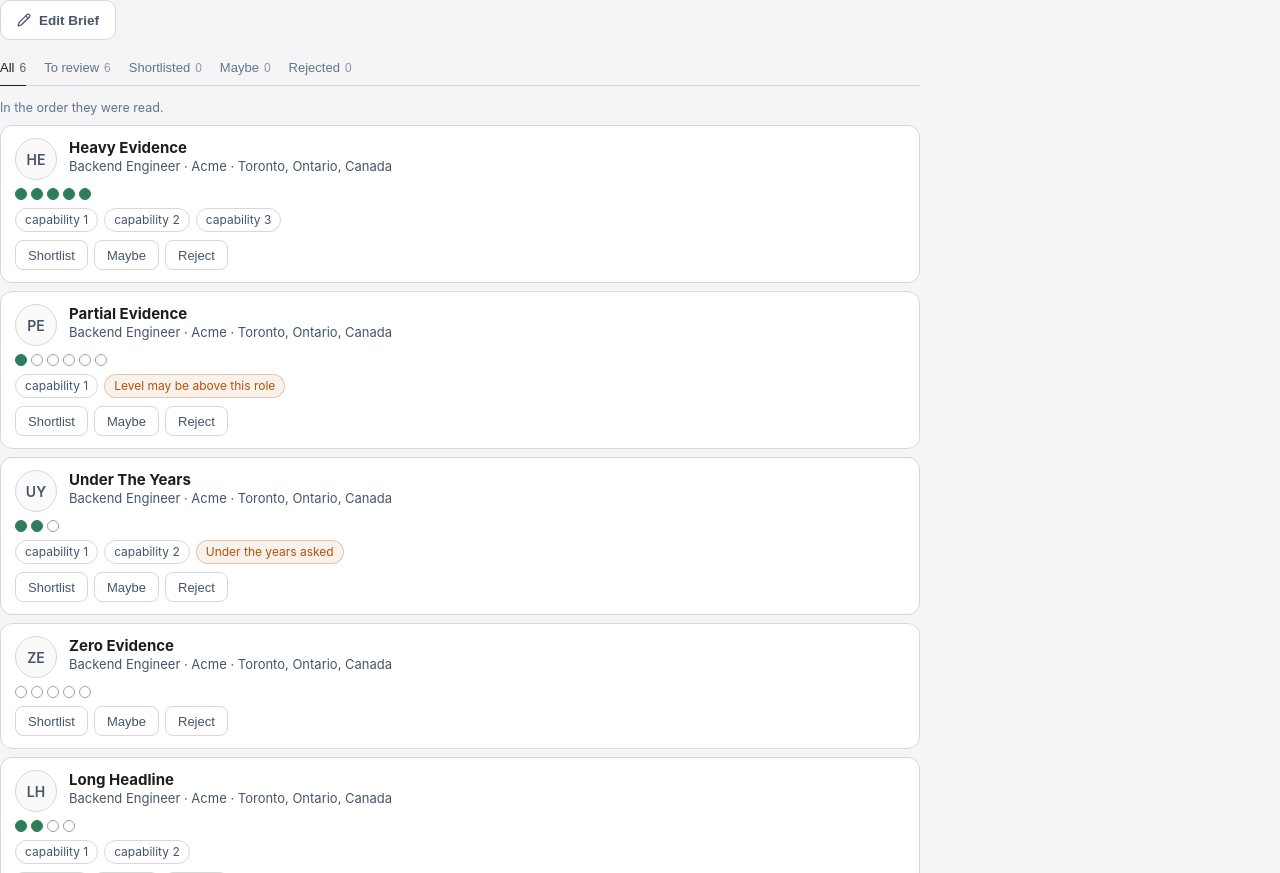
Test: proof and record › shows the evidence fingerprint exactly once, with no score/rank/match% language anywhere
Click the element with class "ws-card" that starts with "Heavy Evidence".
click(460, 204)  # box [0,125,920,283]
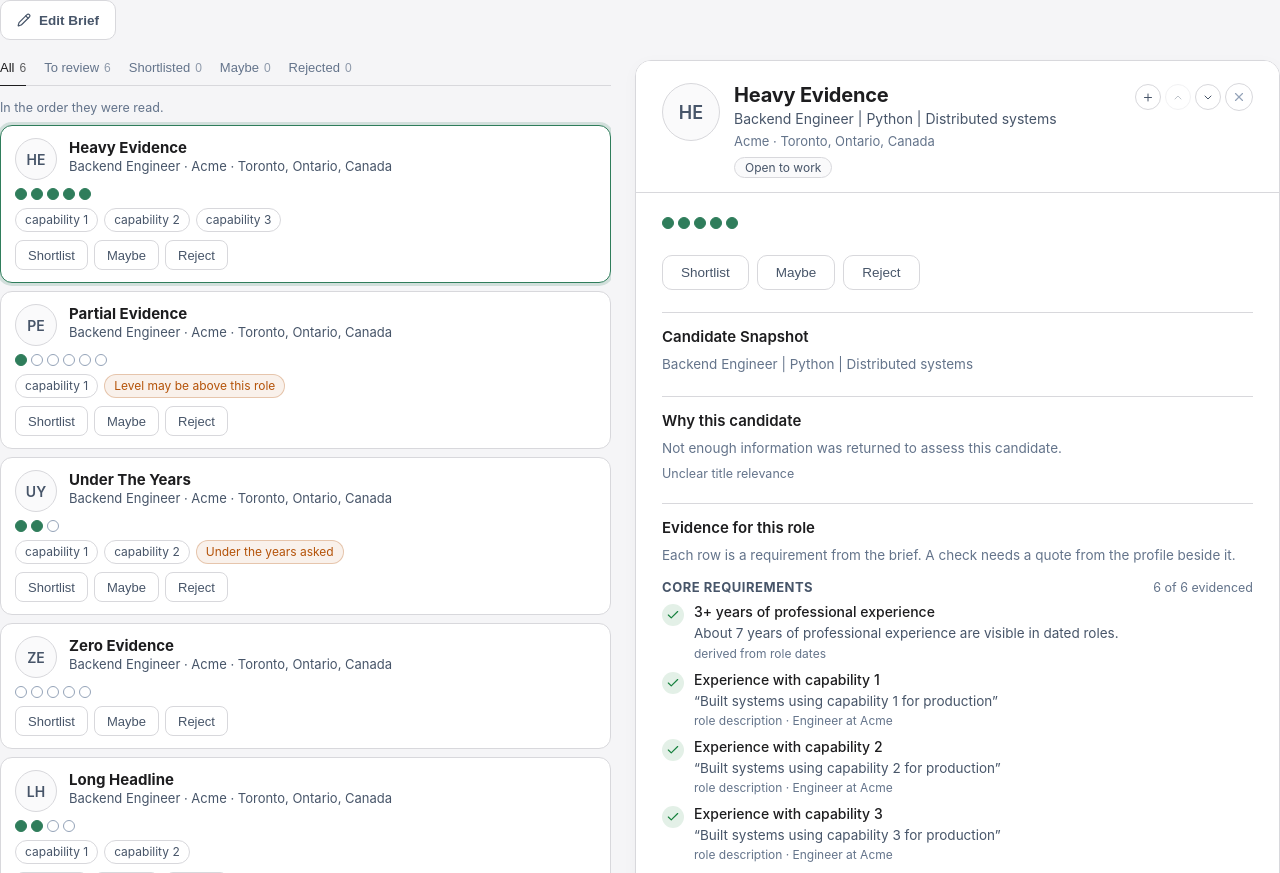
Check: the number of elements with class "record-fingerprint" is 1, box [662,217,738,229]
